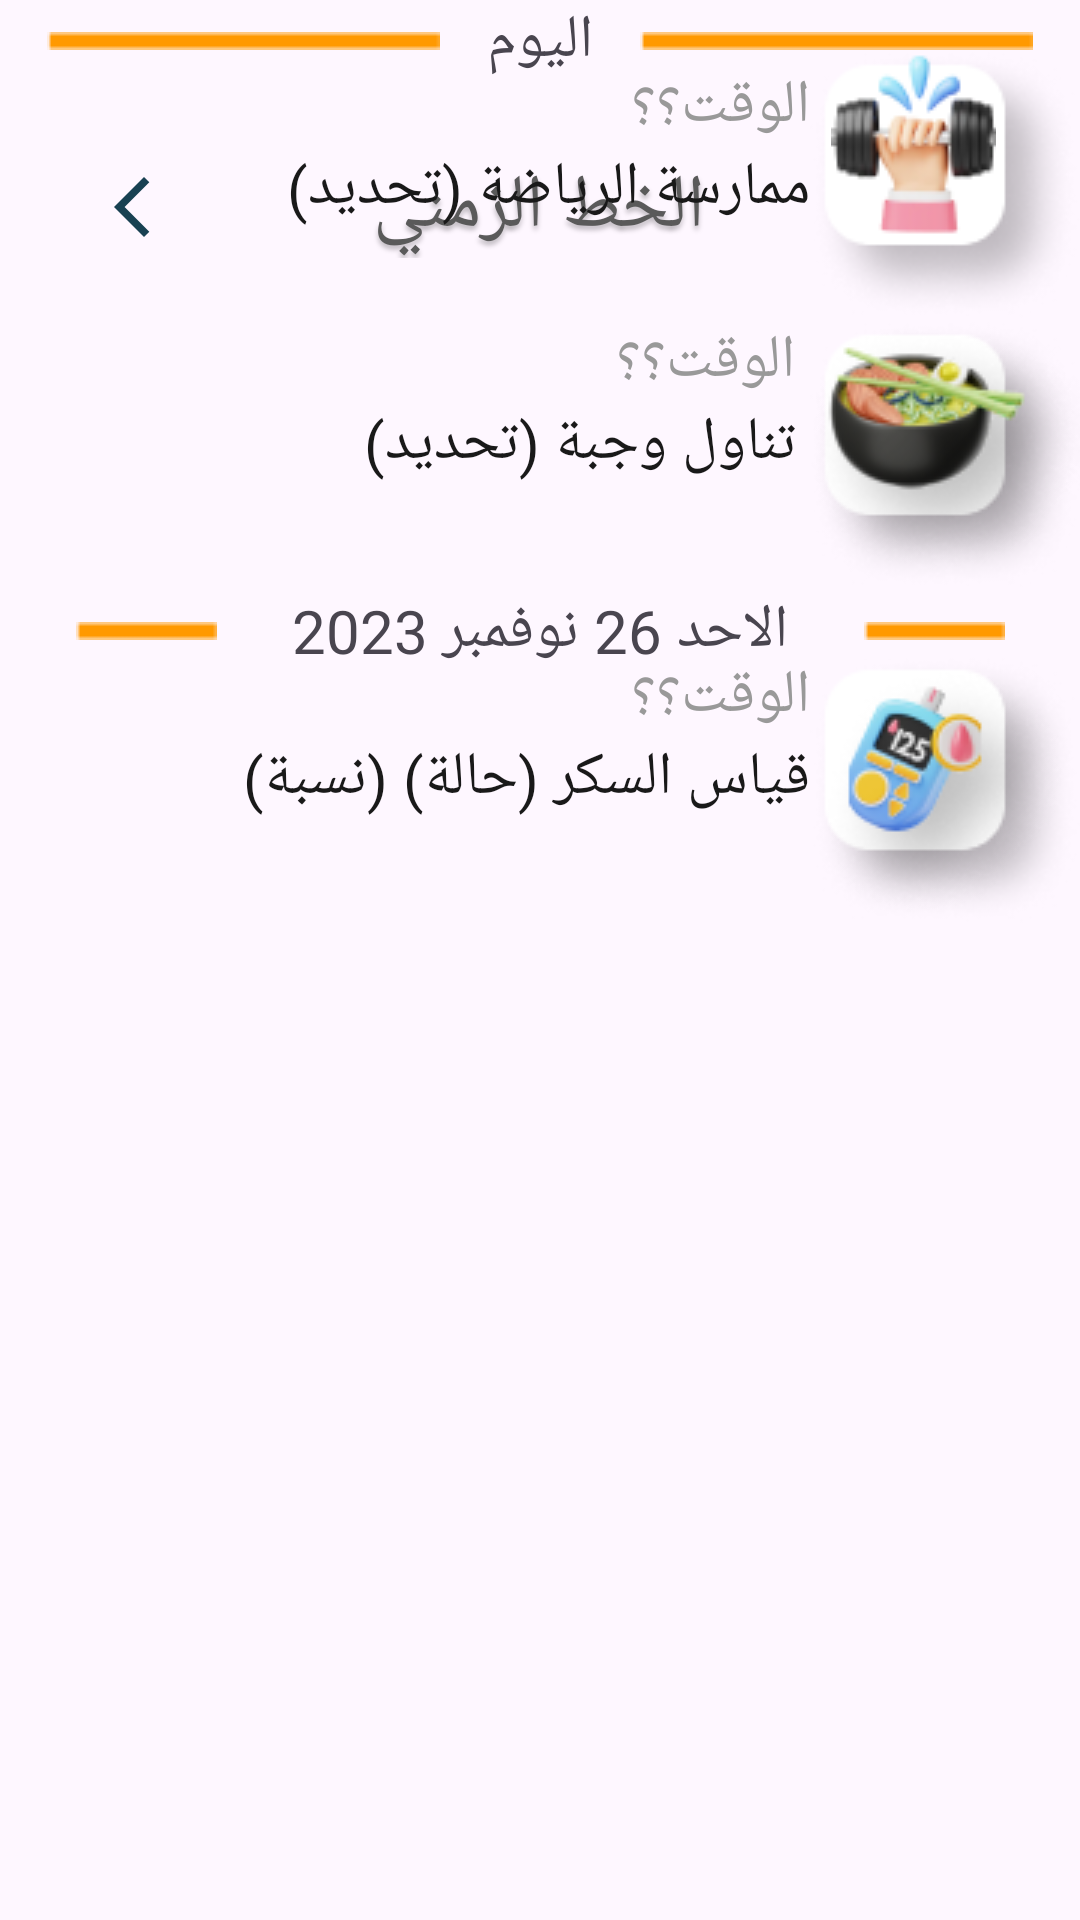

Icons on this 1080px x 1920px Android screen, each with its box as (x1, y1, x2, y2):
arrow back: (114, 177, 149, 237)
measure: (848, 687, 1043, 890)
sport: (831, 56, 996, 234)
